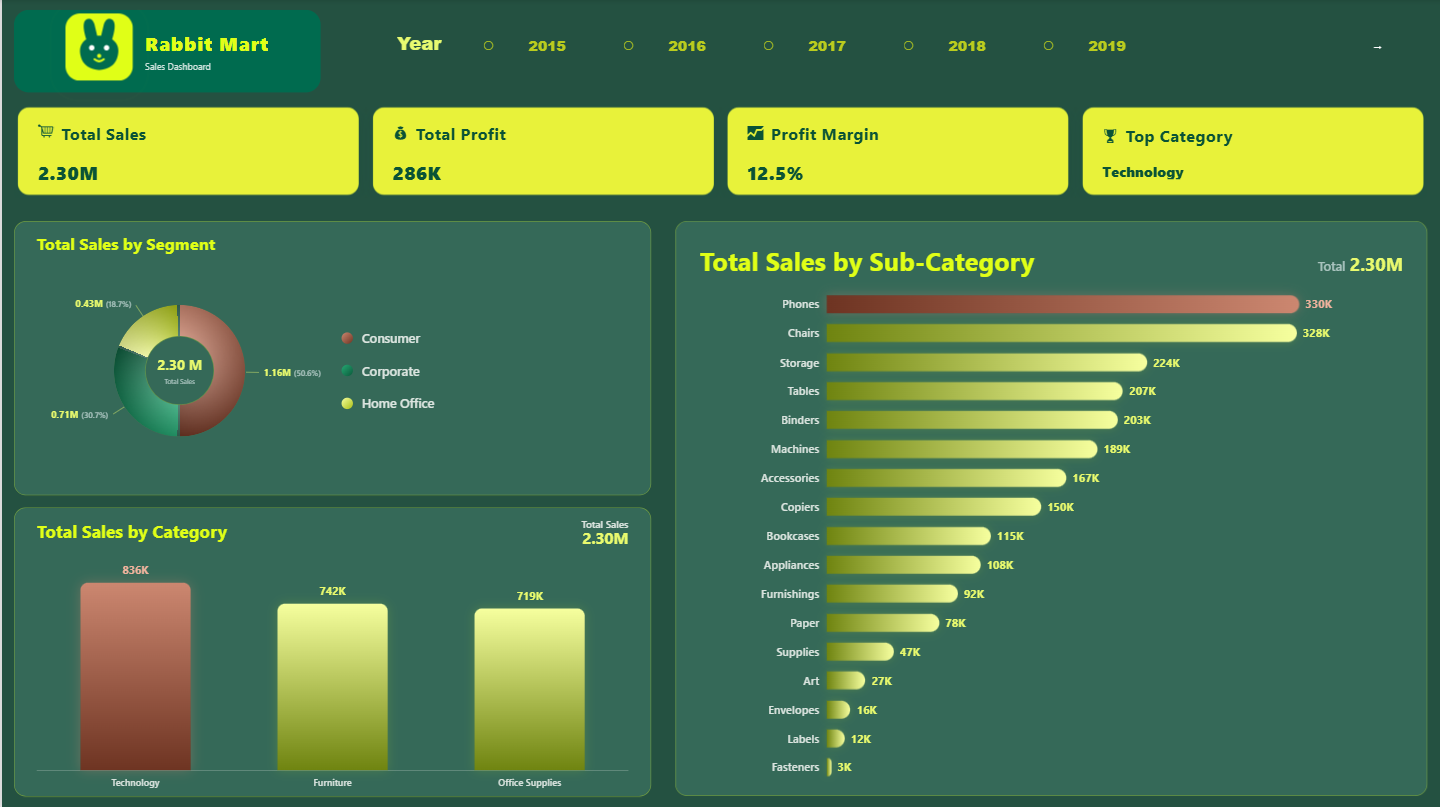

The page's visual inventory and layout, read from the dashboard file:
{"tool":"powerbi","page":{"name":" Category","canvas":[1920,1080],"ordinal":0},"visuals":[{"type":"htmlContent443BE3AD55E043BF878BED274D3A6855","fields":{"content":["Category_Measure.Rabbit_mart"]},"box":[0,124.9,1920.1,157.4],"z":0},{"type":"advancedSlicerVisual","fields":{"Values":["Fact_Table.Ship Date.Variation.Date Hierarchy.Year"]},"box":[603.1,31.4,979.5,64.5],"z":1000},{"type":"textbox","box":[528.4,41.6,93,45.6],"z":2000},{"type":"htmlContent443BE3AD55E043BF878BED274D3A6855","fields":{"content":["Category_Measure.Category_Chart"]},"box":[0,664.1,883.1,416.2],"z":3000},{"type":"htmlContent443BE3AD55E043BF878BED274D3A6855","fields":{"content":["Category_Measure.Segment_Donut"]},"box":[0,282.3,883.1,396.3],"z":4000},{"type":"htmlContent443BE3AD55E043BF878BED274D3A6855","fields":{"content":["Category_Measure.SubCategory_Chart"]},"box":[883.1,282.3,1036.9,798.1],"z":5000},{"type":"actionButton","box":[1775.3,39.8,124.9,45.2],"z":6000},{"type":"htmlContent443BE3AD55E043BF878BED274D3A6855","fields":{"content":["Category_Measure.Rabbit Logo"]},"box":[0,0,441.6,204.5],"z":7000}]}

Visuals, with their boxes in screenshot pixels (x1, y1, x2, y2), scaled from the page's 1920x1080 canvas onto the 1440x807 screenshot:
htmlContent443BE3AD55E043BF878BED274D3A6855 - Category_Measure.Rabbit_mart: detection(0, 93, 1439, 211)
advancedSlicerVisual - Fact_Table.Ship Date.Variation.Date Hierarchy.Year: detection(452, 23, 1187, 72)
textbox: detection(396, 31, 466, 65)
htmlContent443BE3AD55E043BF878BED274D3A6855 - Category_Measure.Category_Chart: detection(0, 496, 662, 806)
htmlContent443BE3AD55E043BF878BED274D3A6855 - Category_Measure.Segment_Donut: detection(0, 211, 662, 507)
htmlContent443BE3AD55E043BF878BED274D3A6855 - Category_Measure.SubCategory_Chart: detection(662, 211, 1439, 806)
actionButton: detection(1331, 30, 1425, 64)
htmlContent443BE3AD55E043BF878BED274D3A6855 - Category_Measure.Rabbit Logo: detection(0, 0, 331, 153)
